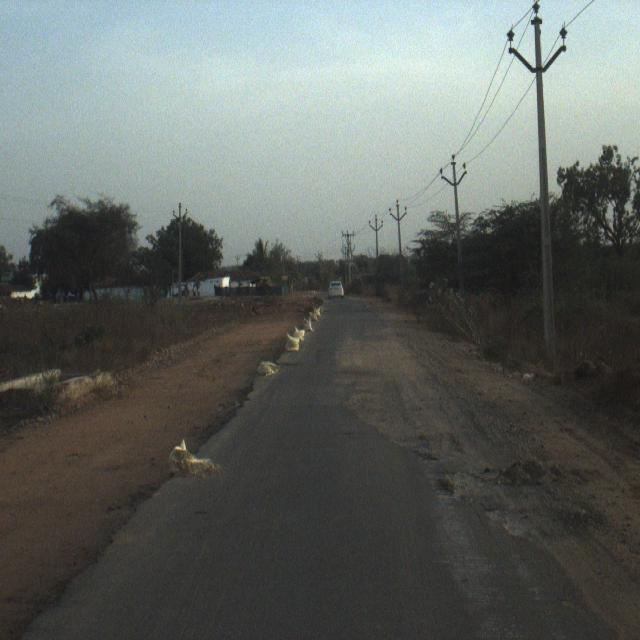Pothole: (467, 459, 603, 571), (387, 419, 460, 578), (342, 313, 411, 408)
